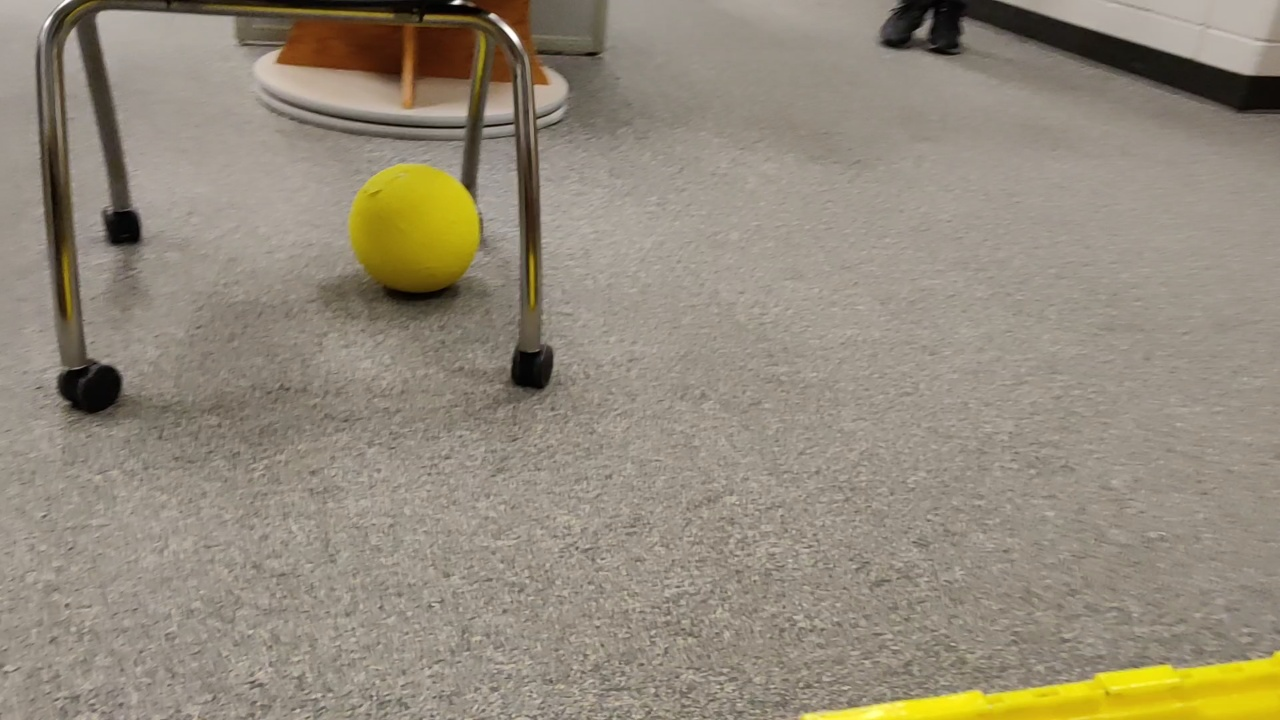Ball: (349, 164, 477, 302)
